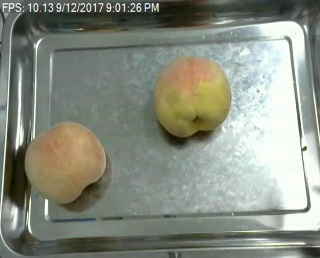Peach: (24, 119, 107, 203), (154, 56, 231, 137)
